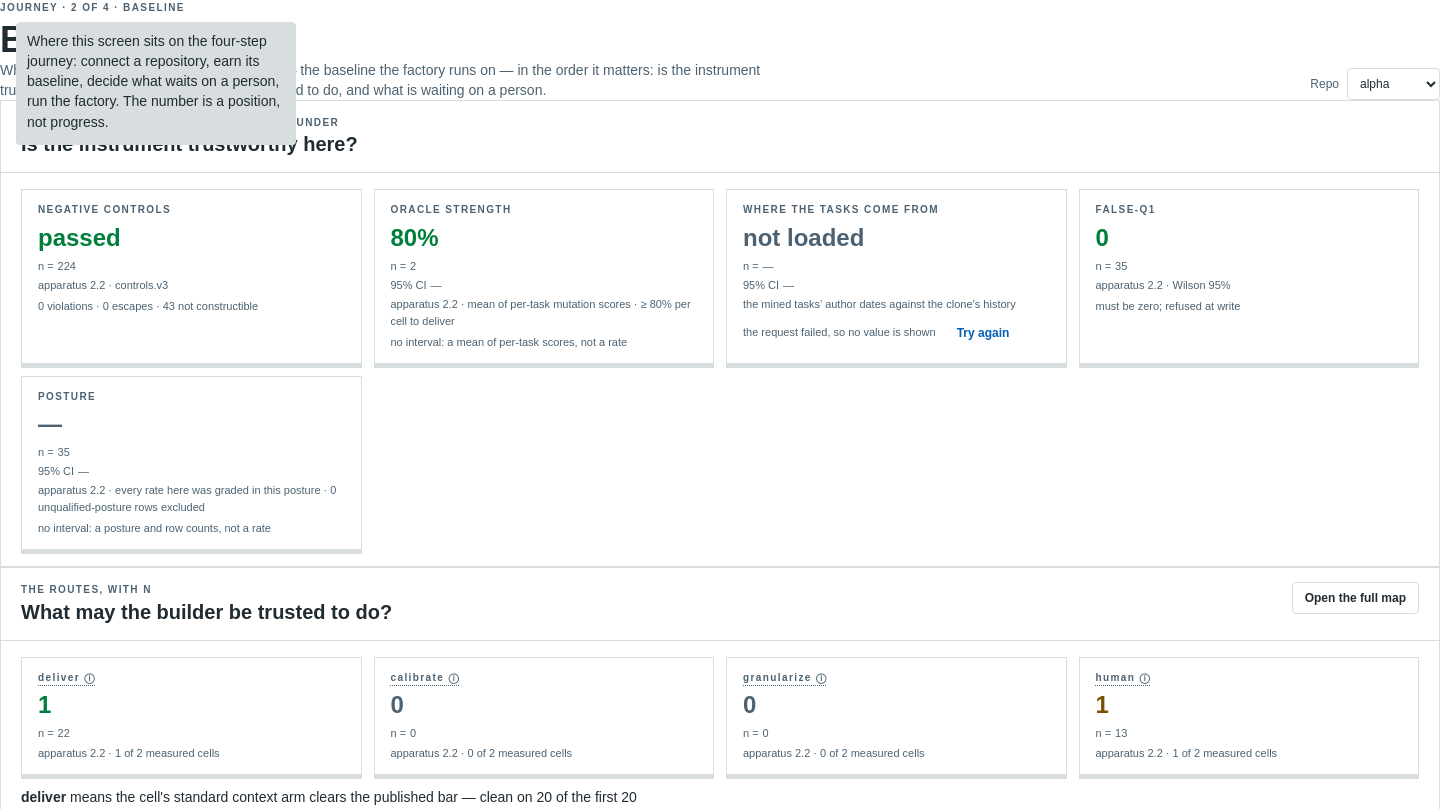
Test: ResultsPage › a failed pool request says so and offers a retry, never "unknown" (PR #54 review)
The image size is (1440, 809).
Expected: the text "not loaded" is shown, [743,224,864,250]
Expected: the element with test id "tile-pool-window" does not show "unknown", [726,189,1066,364]
Click the button "Try again".
click(983, 333)  # box [944,317,1022,349]
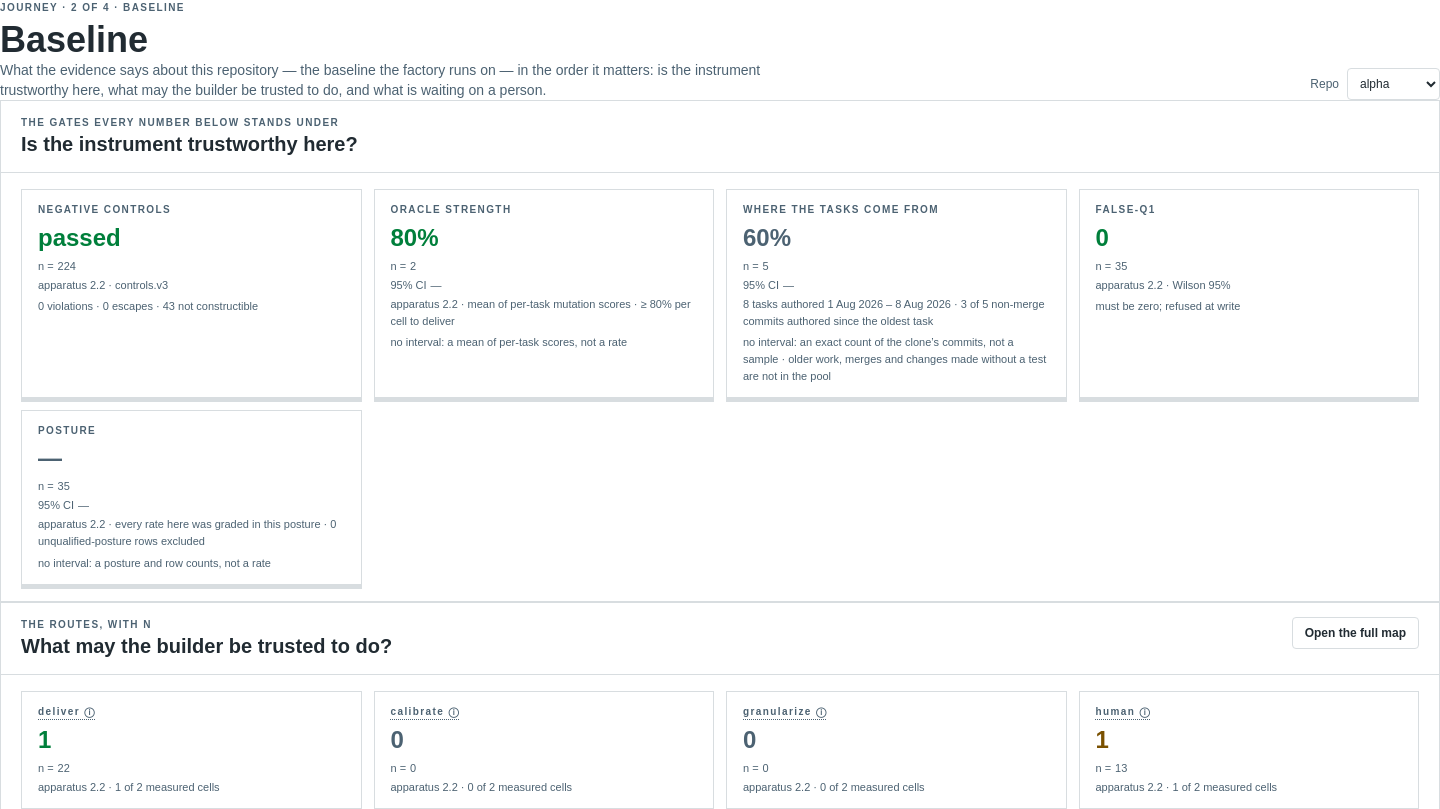
Expected: the text "60%" is shown, [743,224,791,250]
